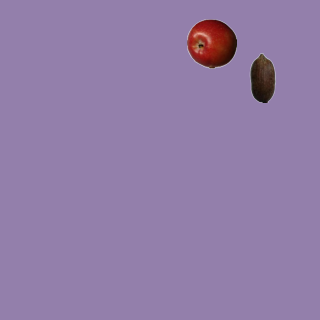Apple Braeburn: (186, 18, 236, 68)
Nut Pecan: (237, 52, 287, 102)
